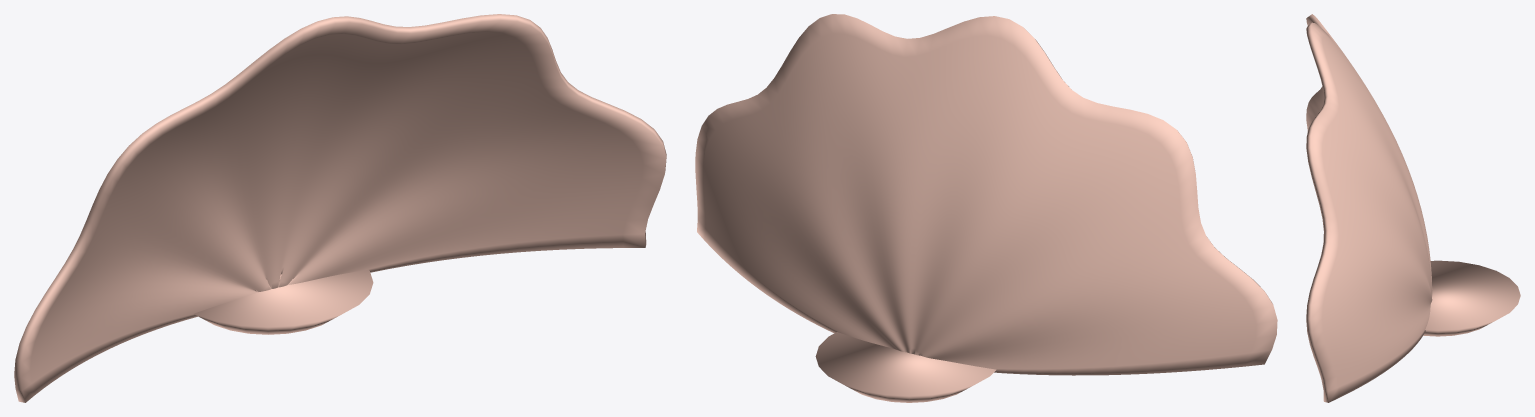
Rendered from shell.glb.
3 renders of one model, left to right at view 1: azimuth 30°, elevation 25°; view 2: azimuth 150°, elevation 25°; view 3: azimuth 270°, elevation 25°, orthographic. The views are drawn at different scales.
Parts seen in each view (by area): view 1: scallop, Cone; view 2: scallop, Cone; view 3: scallop, Cone.
Boxes of the visible parts, x1,y1,x2,y2 form: scallop: (14,14,666,402); Cone: (194,270,373,334); scallop: (695,14,1277,375); Cone: (815,332,996,402); scallop: (1306,14,1432,402); Cone: (1423,260,1520,336).
Bounding box in the file's own units: 1.78 × 0.9086 × 0.6448.
